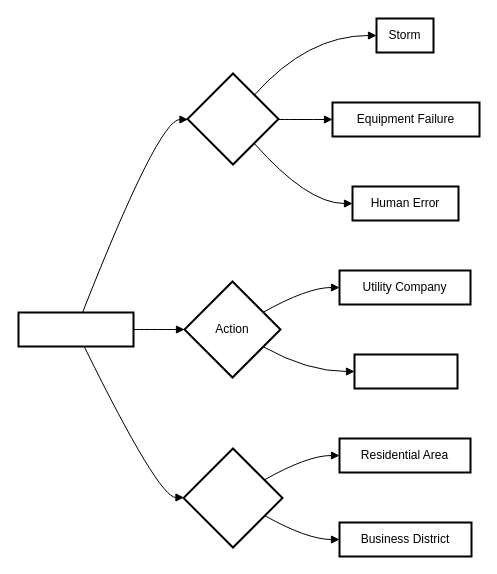
This 497x574 diagram has some shape labels left out. Each missing label, with the centre of its shape:
"Cause" belongs at [232,118].
"Impact" belongs at [232,497].
"Power Outage" belongs at [75,329].
"Repair Crew" belongs at [405,371].
